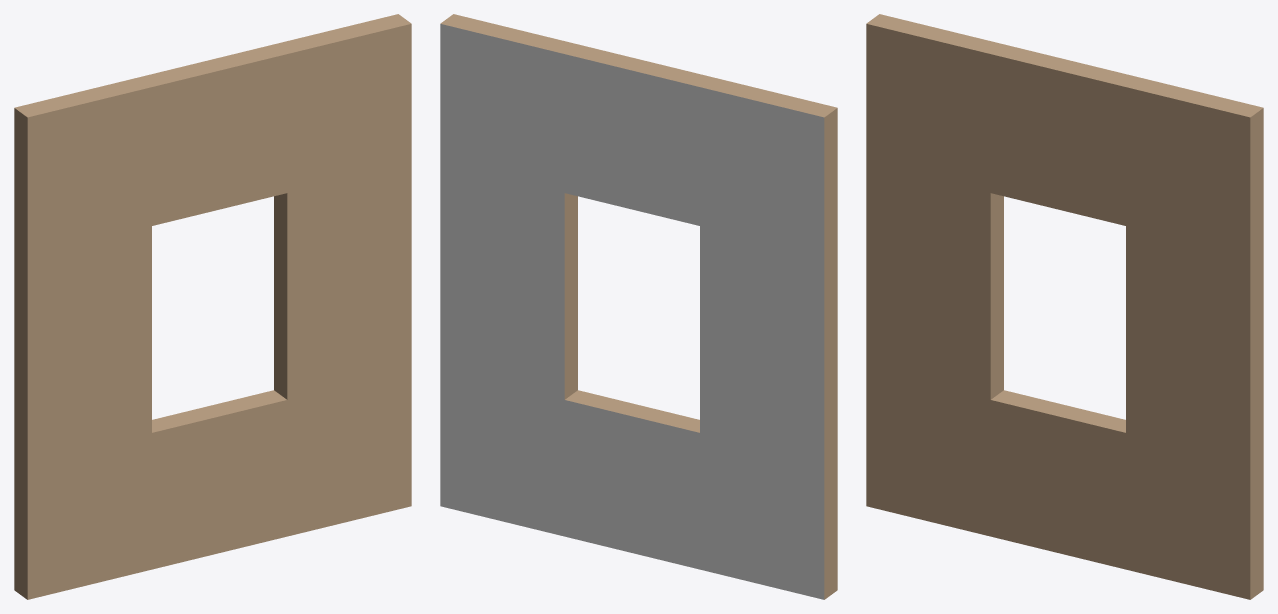
File: Wall1_C2_03.fbx
3 views of the same model, side by side, from view 1: azimuth 30°, elevation 25°; view 2: azimuth 150°, elevation 25°; view 3: azimuth 330°, elevation 25° (orthographic).
Parts seen in each view (by area): view 1: Wall1_C2_03; view 2: Wall1_C2_03; view 3: Wall1_C2_03.
Part boxes in pixels (left/top/right/bottom): Wall1_C2_03: left=14, top=14, right=411, bottom=599; Wall1_C2_03: left=440, top=14, right=837, bottom=599; Wall1_C2_03: left=866, top=14, right=1263, bottom=599.
Size of the model in its own units: 250 by 300 by 15.
